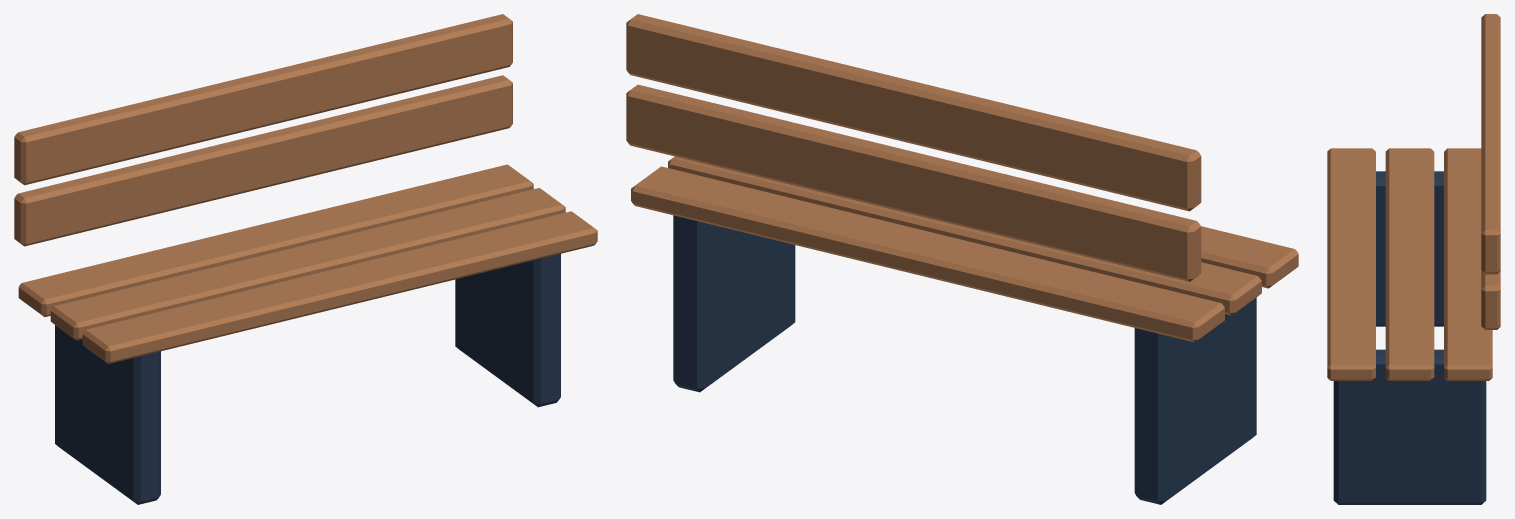
File: Bench_City.fbx
3 views of the same model, side by side, from view 1: azimuth 30°, elevation 25°; view 2: azimuth 150°, elevation 25°; view 3: azimuth 270°, elevation 25° (orthographic). The views are drawn at different scales.
Visible parts, largest first — view 1: BackSlat.001, BackSlat, SeatSlat, SeatSlat.001, SeatSlat.002, Support, Support.001; view 2: BackSlat, BackSlat.001, SeatSlat.002, Support, Support.001, SeatSlat.001, SeatSlat; view 3: Support.001, SeatSlat.001, SeatSlat, SeatSlat.002, BackSlat.001, Support, BackSlat.
Part boxes in pixels (x1=…): BackSlat.001: x1=14, y1=14, x2=512, y2=185; BackSlat: x1=14, y1=75, x2=512, y2=246; SeatSlat: x1=82, y1=211, x2=597, y2=363; SeatSlat.001: x1=50, y1=188, x2=565, y2=340; SeatSlat.002: x1=18, y1=164, x2=533, y2=316; Support: x1=55, y1=325, x2=160, y2=504; Support.001: x1=455, y1=254, x2=560, y2=407; BackSlat: x1=626, y1=84, x2=1201, y2=281; BackSlat.001: x1=626, y1=14, x2=1201, y2=211; SeatSlat.002: x1=631, y1=166, x2=1224, y2=342; Support: x1=1134, y1=297, x2=1256, y2=504; Support.001: x1=673, y1=215, x2=795, y2=392; SeatSlat.001: x1=668, y1=156, x2=1261, y2=315; SeatSlat: x1=1201, y1=226, x2=1298, y2=288; Support.001: x1=1333, y1=349, x2=1486, y2=504; SeatSlat.001: x1=1385, y1=148, x2=1434, y2=380; SeatSlat: x1=1327, y1=148, x2=1375, y2=380; SeatSlat.002: x1=1444, y1=148, x2=1492, y2=380; BackSlat.001: x1=1481, y1=14, x2=1500, y2=274; Support: x1=1376, y1=171, x2=1443, y2=326; BackSlat: x1=1481, y1=271, x2=1500, y2=329.
Size of the model in its own units: 1.6 by 0.985 by 0.535.
